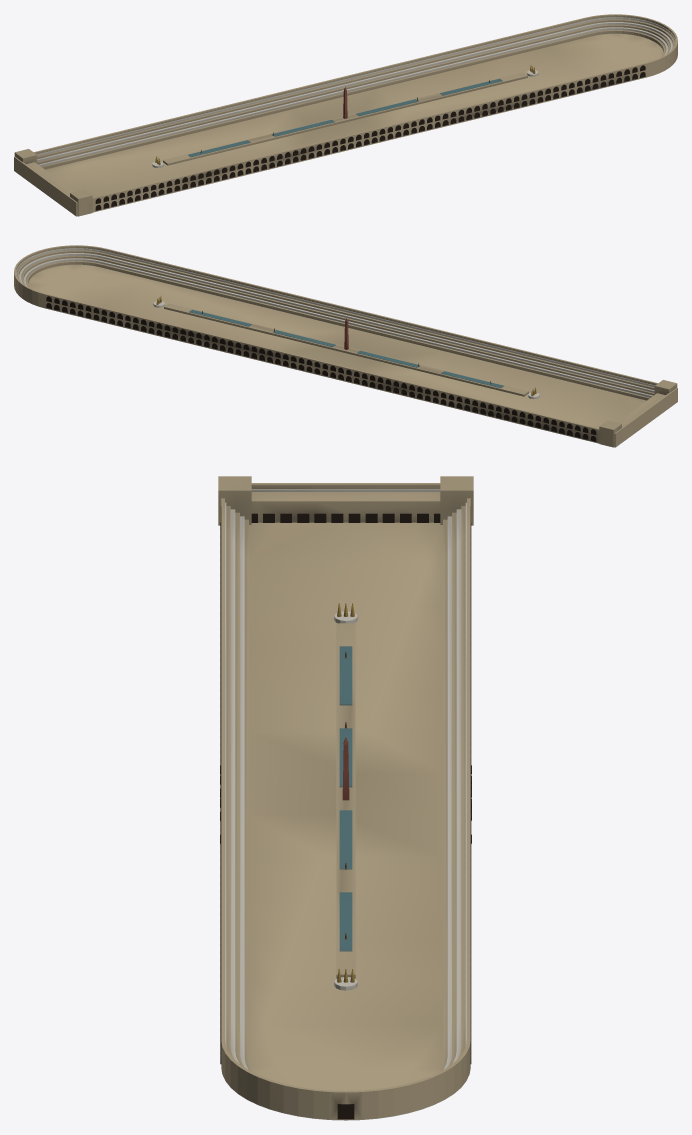
File: circus.glb
3 renders of one model, top to bottom at view 1: azimuth 30°, elevation 25°; view 2: azimuth 150°, elevation 25°; view 3: azimuth 270°, elevation 25°, orthographic. The views are drawn at different scales.
Parts seen in each view (by area): view 1: p1_stands, p0_arena, p2_spina; view 2: p1_stands, p0_arena, p2_spina; view 3: p0_arena, p1_stands, p2_spina.
Part boxes in pixels (left/top/right/bottom): p1_stands: left=14, top=14, right=677, bottom=216; p0_arena: left=41, top=30, right=666, bottom=197; p2_spina: left=14, top=65, right=538, bottom=216; p1_stands: left=14, top=245, right=677, bottom=447; p0_arena: left=25, top=261, right=650, bottom=428; p2_spina: left=153, top=296, right=677, bottom=447; p0_arena: left=244, top=519, right=447, bottom=1090; p1_stands: left=220, top=483, right=471, bottom=1120; p2_spina: left=218, top=476, right=473, bottom=1119.
Bounding box in the file's own units: 520 × 26.97 × 92.
